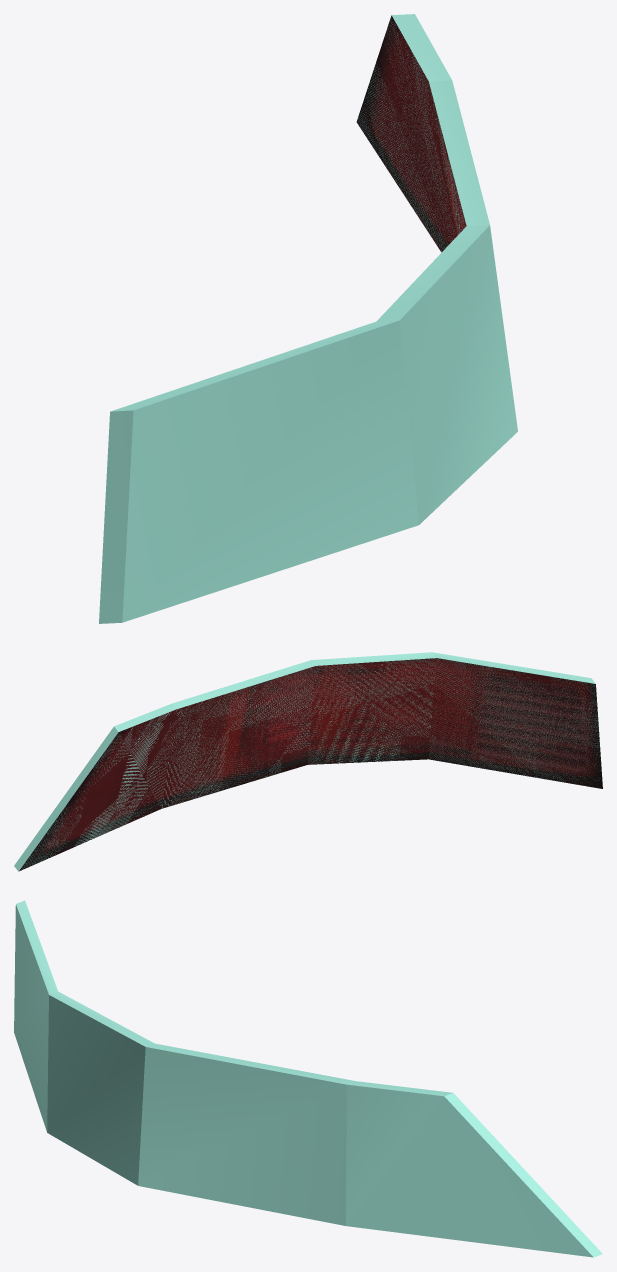
File: SampleCar_01_Reverse_R.fbx
3 views of the same model, one above another, from view 1: azimuth 30°, elevation 25°; view 2: azimuth 150°, elevation 25°; view 3: azimuth 270°, elevation 25° (orthographic). The views are drawn at different scales.
Parts seen in each view (by area): view 1: UTM_glass_005, glass_005_LOD0; view 2: glass_005_LOD0, UTM_glass_005; view 3: UTM_glass_005.
Part boxes in pixels (bbox=[...]): UTM_glass_005: bbox=[99, 14, 517, 623]; glass_005_LOD0: bbox=[356, 15, 466, 252]; glass_005_LOD0: bbox=[19, 658, 602, 871]; UTM_glass_005: bbox=[14, 652, 600, 871]; UTM_glass_005: bbox=[14, 900, 602, 1257].
Bounding box in the file's own units: 31.22 × 8.85 × 34.3.
